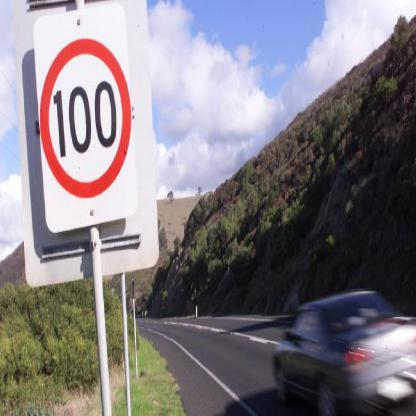Speed Limit 100: (40, 37, 132, 196)
